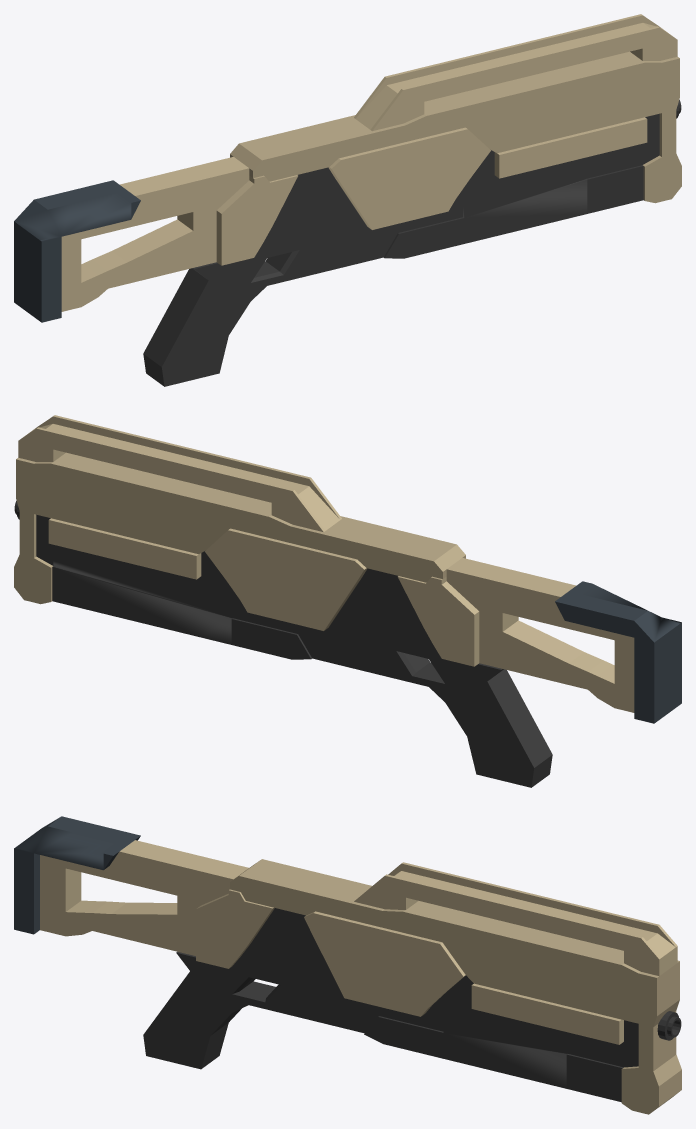
Rendered from Rifle1.fbx.
3 renders of one model, top to bottom at view 1: azimuth 30°, elevation 25°; view 2: azimuth 150°, elevation 25°; view 3: azimuth 330°, elevation 25°, orthographic.
Parts seen in each view (by area): view 1: polySurface1; view 2: polySurface1; view 3: polySurface1.
Boxes of the visible parts, box(x1,y1,x2,y2) form: polySurface1: box(14, 14, 681, 386); polySurface1: box(14, 415, 681, 787); polySurface1: box(14, 816, 681, 1114).
Bounding box in the file's own units: 810 × 285 × 60.
